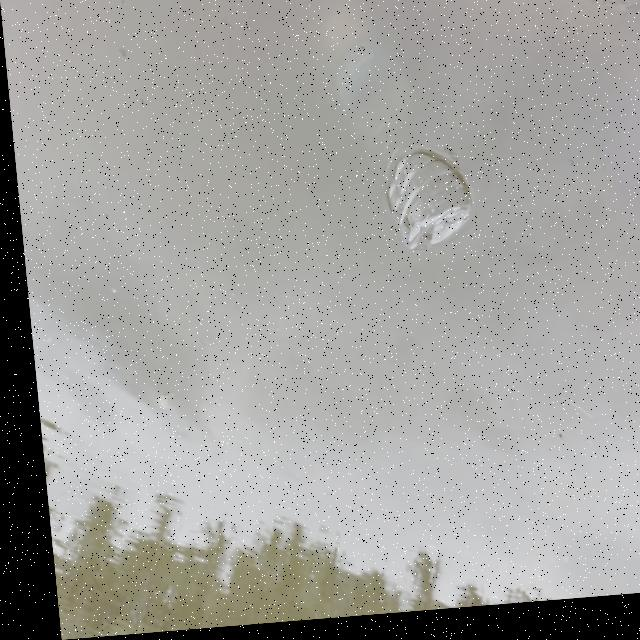waterbottle: (308, 0, 501, 278)
